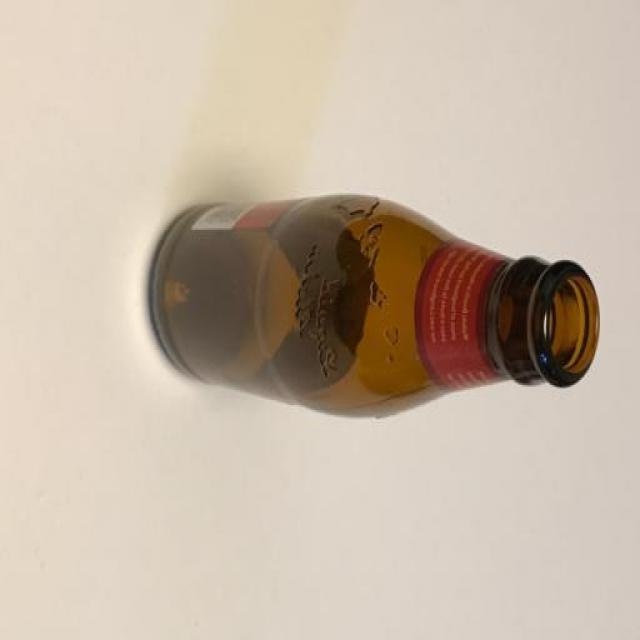glass: (145, 192, 600, 426)
